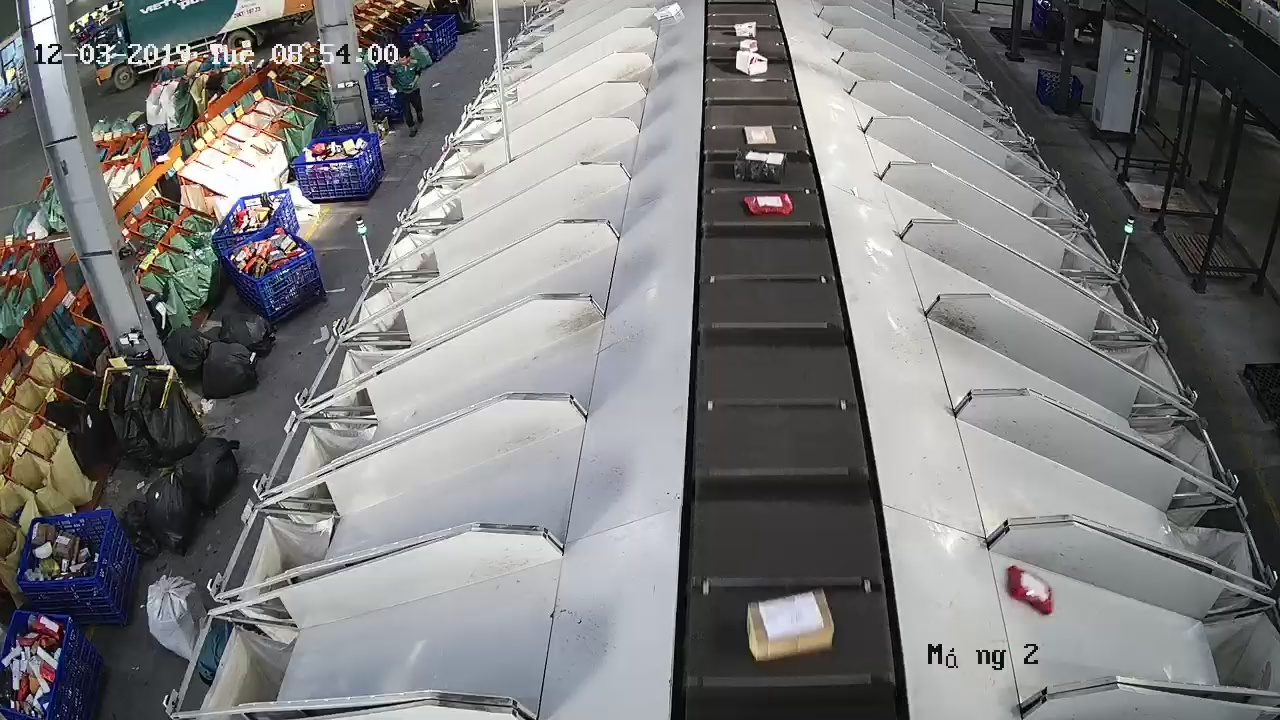parcel: (745, 587, 836, 664), (1006, 564, 1054, 616), (733, 148, 788, 185), (743, 191, 796, 216), (742, 124, 778, 147)
